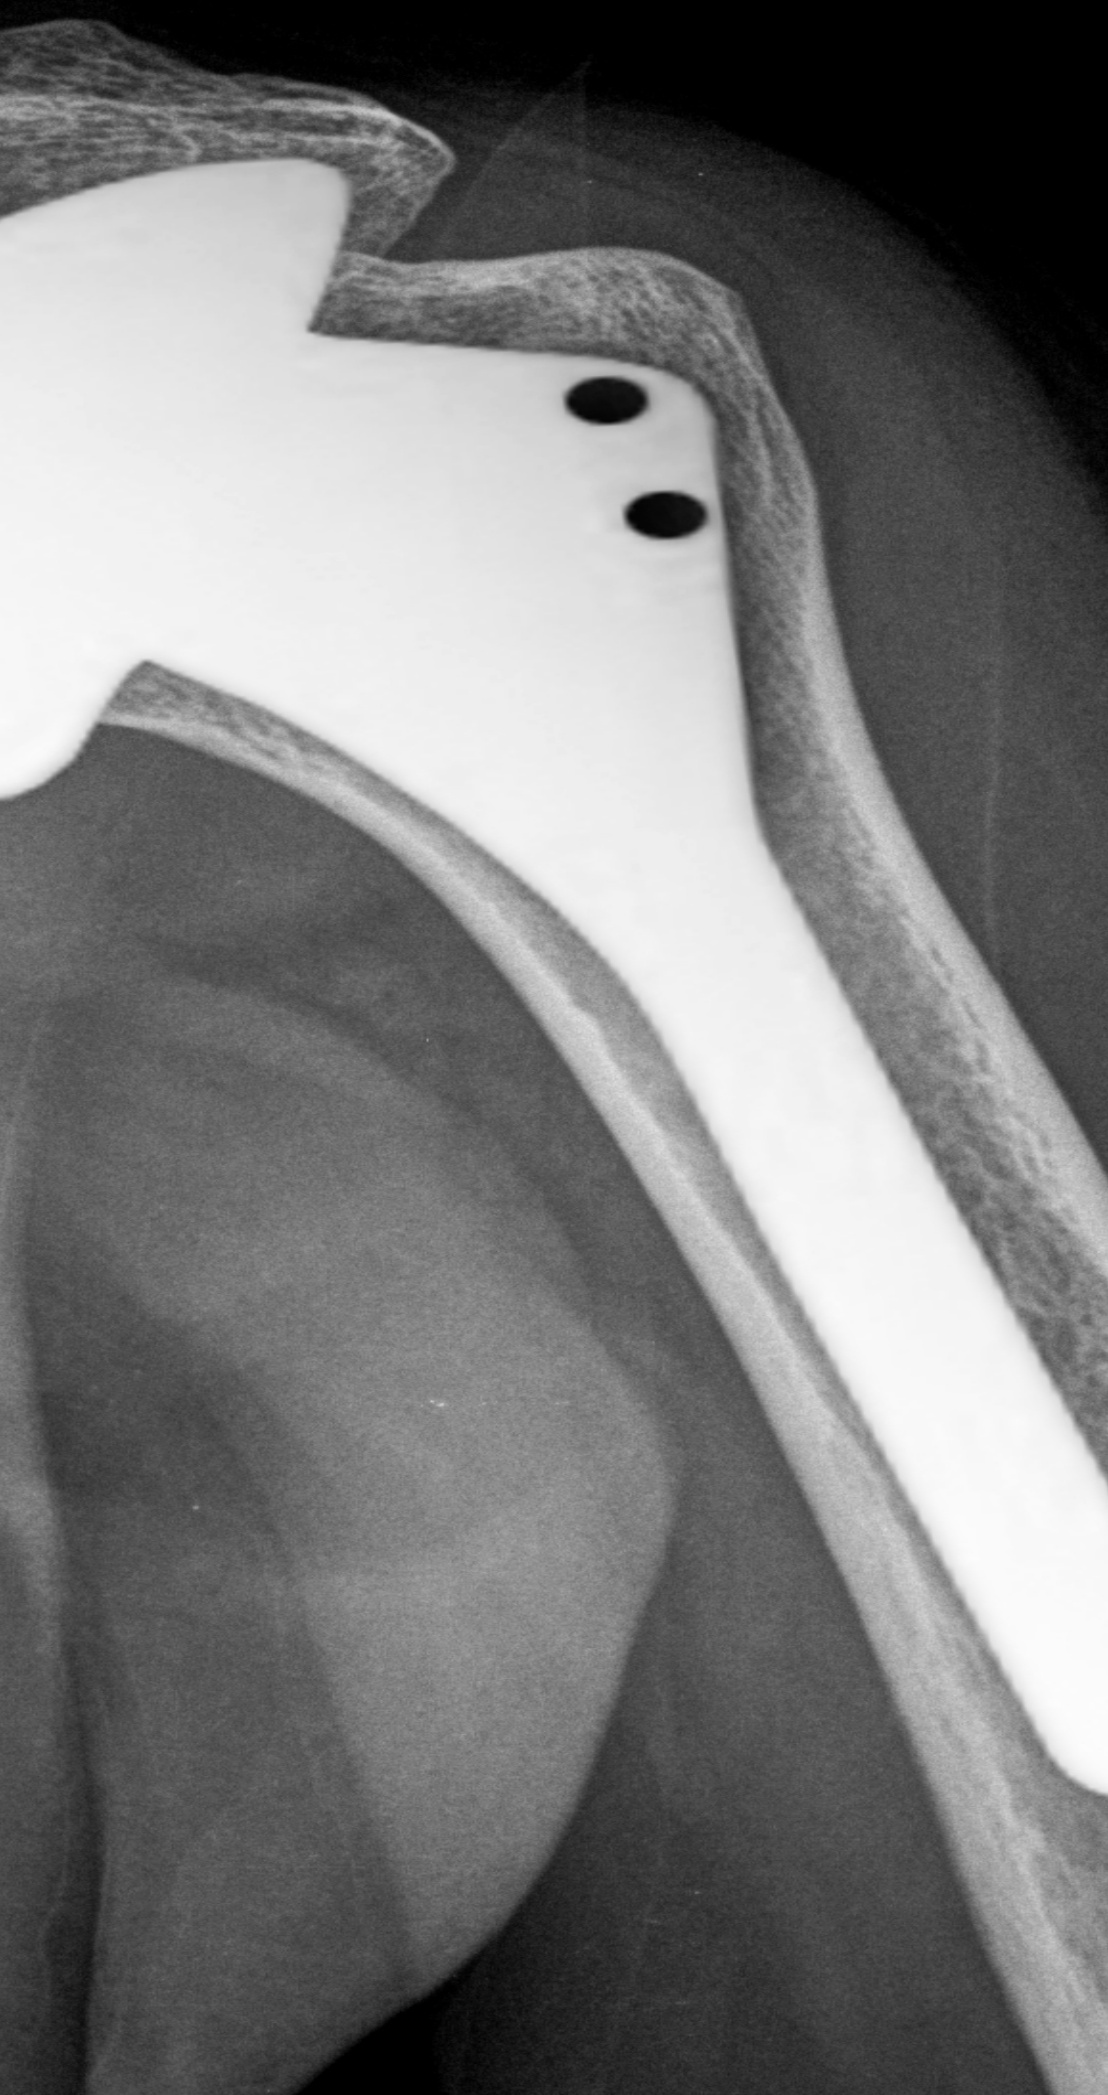Shoulder - Aequalishead - Tornier: (1, 114, 399, 826)
Shoulder - Aequalistail - Tornier: (43, 129, 839, 939)
